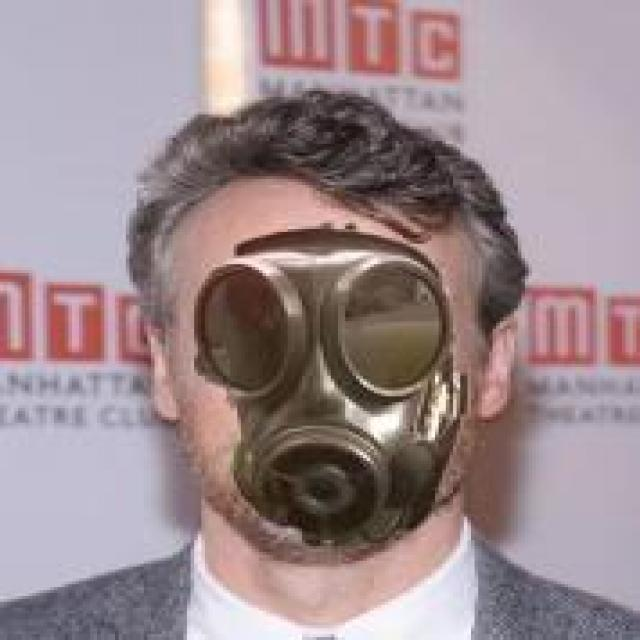mask: (111, 106, 546, 570)
